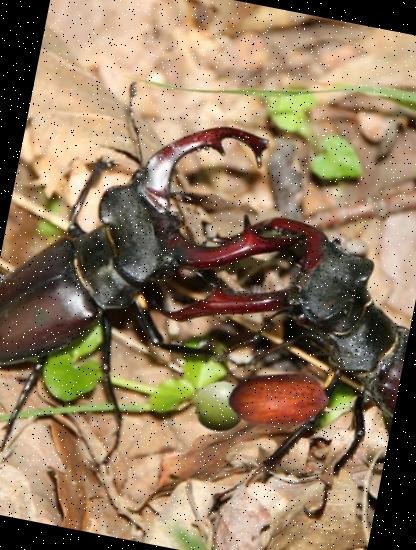Apple: (188, 374, 252, 439)
Nut: (218, 338, 340, 460)
